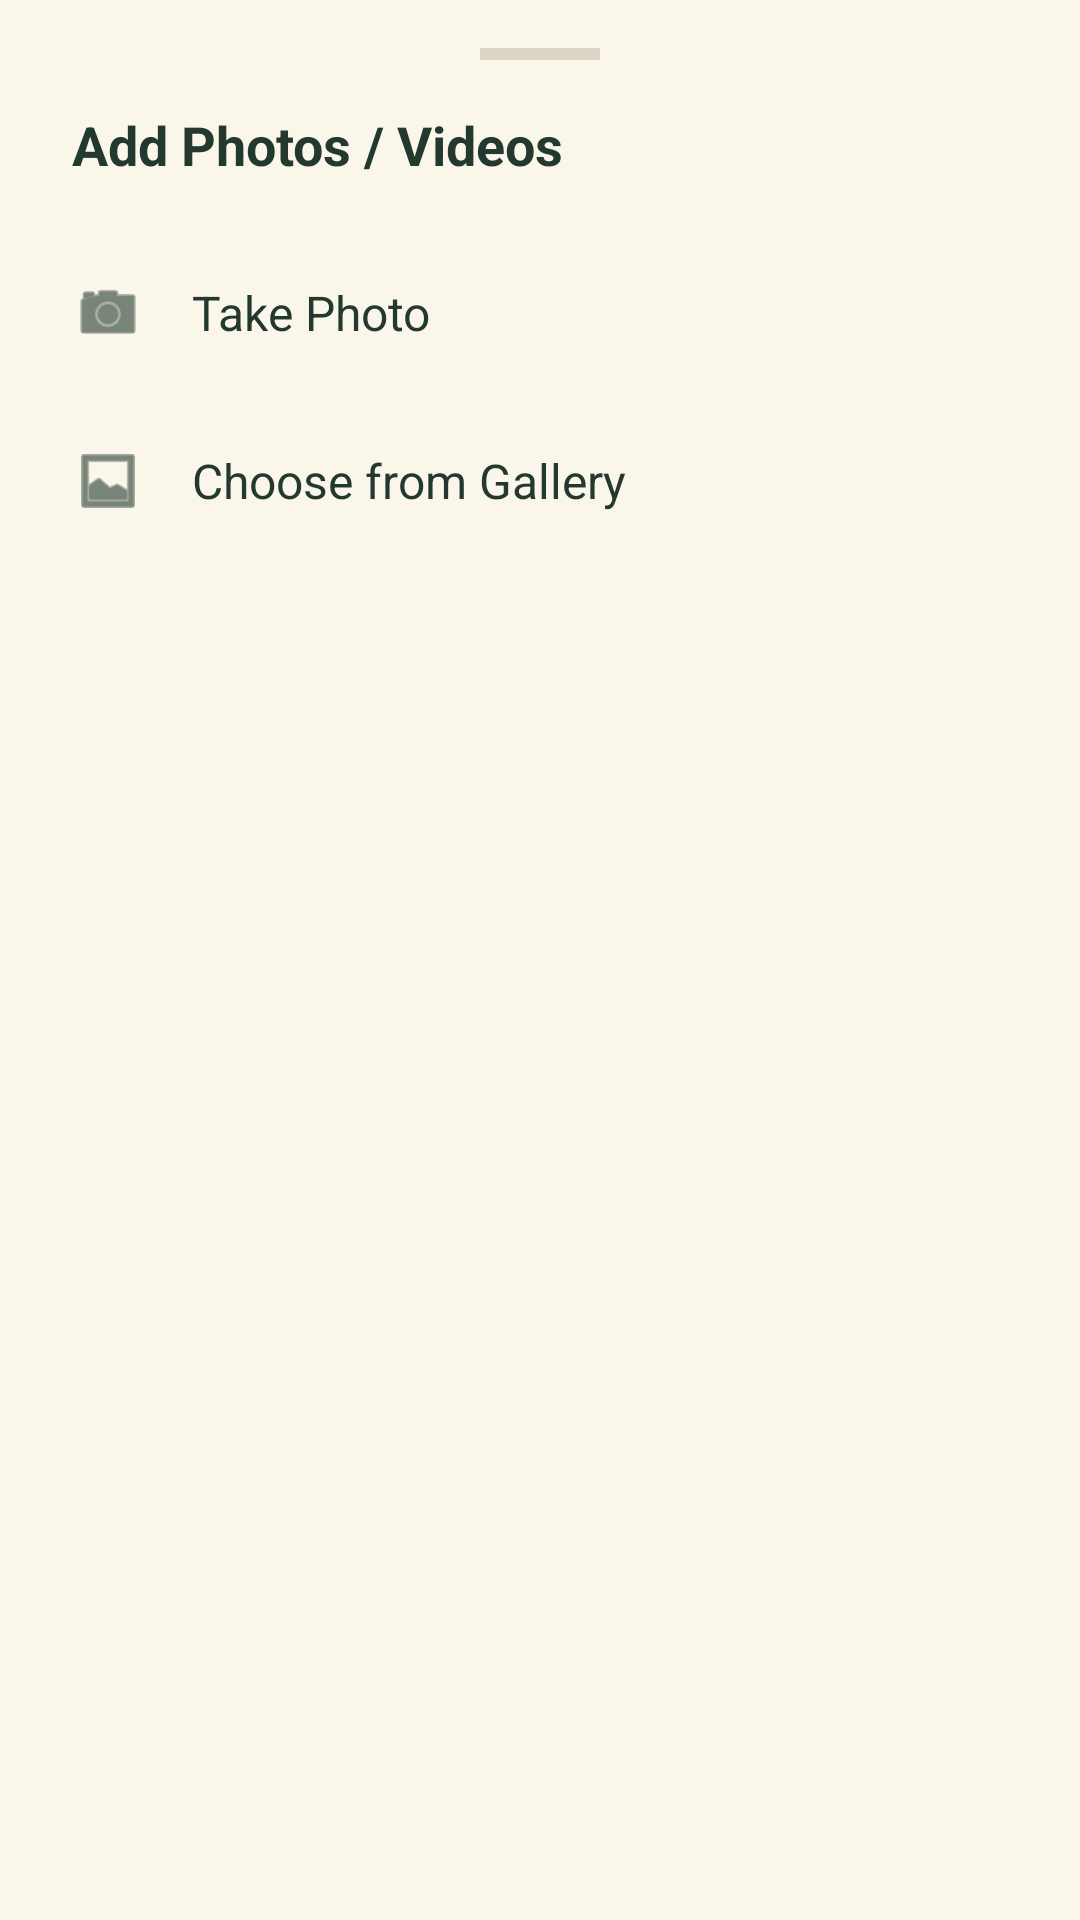

Where icons sit on this 1080 × 1920 app screen, as (x1, y1, x2, y2):
camera: (80, 290, 136, 334)
